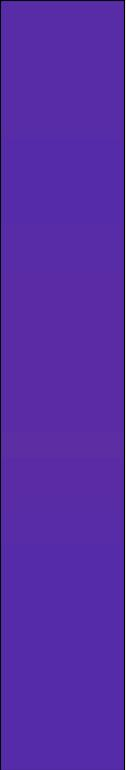safe: (8, 9, 118, 761)
